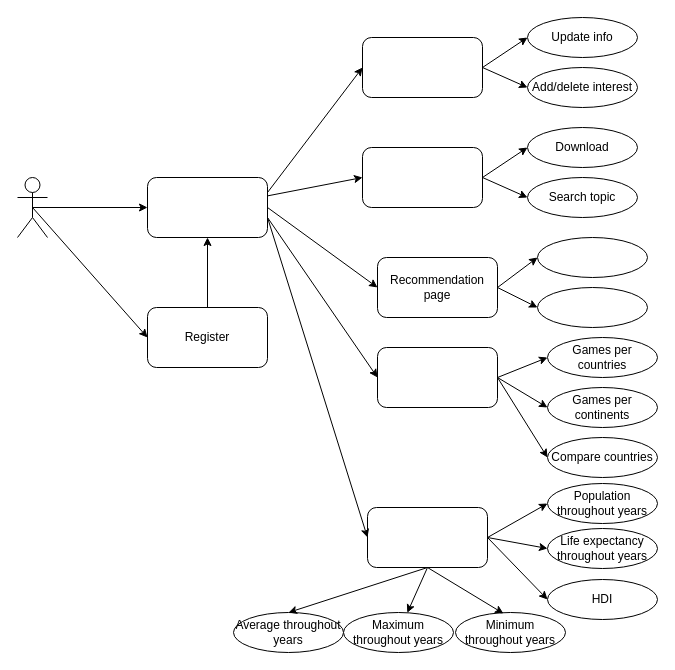
The diagram is 675 pixels wide and 670 high, and some of its shapes have lost their labels. The centre of each missing label's shape, as x and y in pixels:
Demographics page: the point at 427,537
Games page: the point at 437,377
Get Word Cloud: the point at 592,257
Login: the point at 207,207
Profile page: the point at 422,67
Search page: the point at 422,177
Table: the point at 592,307
User: the point at 32,207
